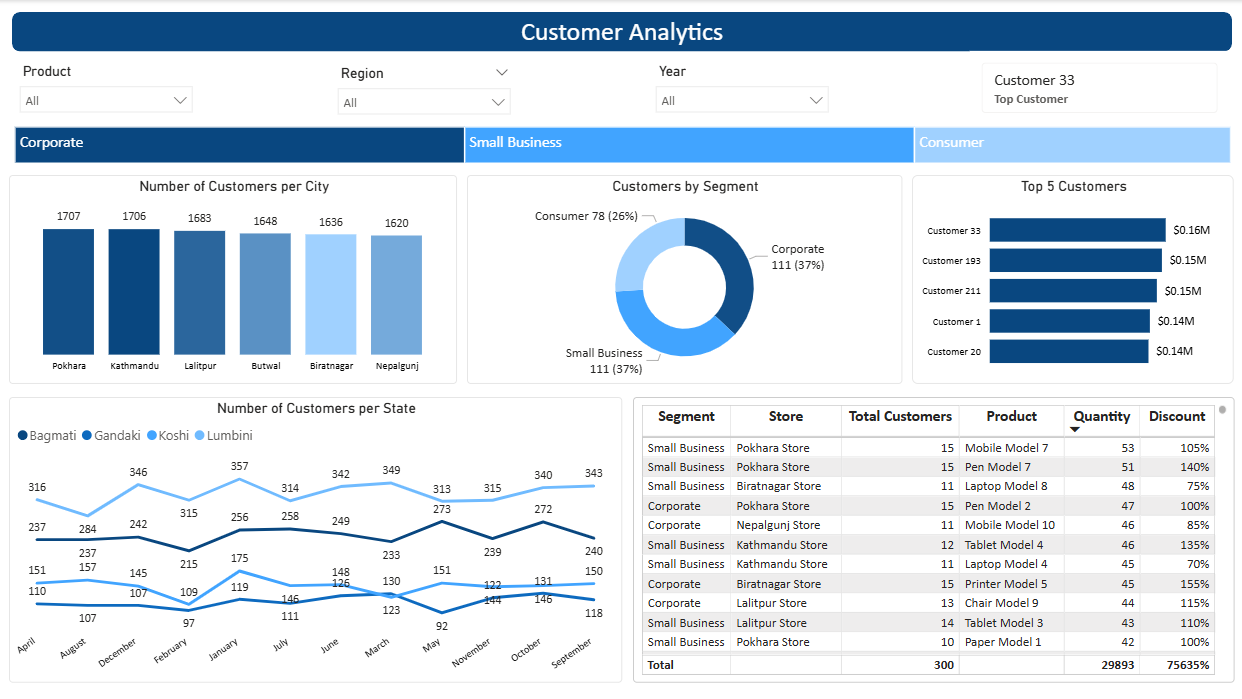

The page's visual inventory and layout, read from the dashboard file:
{"tool":"powerbi","page":{"name":"Customer Insights","canvas":[1280,720],"ordinal":2},"visuals":[{"type":"shape","box":[8.8,8.8,1261.5,46.7],"z":0},{"type":"treemap","title":"Number of Customers by Segment","fields":{"Group":["Customers.Segment"],"Values":["CountNonNull(Customers.Segment)"]},"box":[9.9,125.4,1260.9,47.5],"z":1000},{"type":"barChart","title":"Top 5 Customers","fields":{"Category":["Customers.CustomerName"],"Y":["Measure Calculation.Total Sales"]},"box":[938.9,180,331.2,214.8],"z":2000},{"type":"columnChart","title":"Number of Customers per City","fields":{"Category":["Stores.City"],"Y":["CountNonNull(sales_gold.CustomerName)"]},"box":[9,180,461.5,214.8],"z":3000},{"type":"cardVisual","fields":{"Data":["Min(Customers.CustomerName)"]},"box":[992.6,47.7,277.5,86.5],"z":4000},{"type":"donutChart","title":"Customers by Segment","fields":{"Category":["Customers.Segment"],"Y":["CountNonNull(Customers.CustomerName)"]},"box":[480.4,180,447.6,214.8],"z":5000},{"type":"slicer","fields":{"Values":["sales_gold.Year"]},"box":[665,60.7,197.9,62.7],"z":7000},{"type":"slicer","fields":{"Values":["sales_gold.ProductName"]},"box":[9.9,60.9,197.9,62.7],"z":8000},{"type":"slicer","fields":{"Values":["sales_gold.Region"]},"box":[337.4,62.7,197.9,62.7],"z":9000},{"type":"lineChart","title":"Number of Customers per State","fields":{"Category":["Date_Dimension.MonthName"],"Series":["Customers.State"],"Y":["CountNonNull(sales_gold.CustomerID)"]},"box":[9,408.8,630.6,294.4],"z":10000},{"type":"tableEx","fields":{"Values":["sales_gold.Segment","sales_gold.StoreName","sales_gold.CustomerName","sales_gold.ProductName","Measure Calculation.Total Quantity","Sum(sales_gold.Discount)"]},"box":[651.4,408.8,618.6,294.4],"z":11000}]}

Visuals, with their boxes in screenshot pixels (x1, y1, x2, y2), scaled from the page's 1280x720 canvas onto the 1242x699 screenshot:
shape: {"x1": 9, "y1": 9, "x2": 1233, "y2": 54}
"Number of Customers by Segment" treemap: {"x1": 10, "y1": 122, "x2": 1233, "y2": 168}
"Top 5 Customers" barChart: {"x1": 911, "y1": 175, "x2": 1232, "y2": 383}
"Number of Customers per City" columnChart: {"x1": 9, "y1": 175, "x2": 457, "y2": 383}
cardVisual - Min(Customers.CustomerName): {"x1": 963, "y1": 46, "x2": 1232, "y2": 130}
"Customers by Segment" donutChart: {"x1": 466, "y1": 175, "x2": 900, "y2": 383}
slicer - sales_gold.Year: {"x1": 645, "y1": 59, "x2": 837, "y2": 120}
slicer - sales_gold.ProductName: {"x1": 10, "y1": 59, "x2": 202, "y2": 120}
slicer - sales_gold.Region: {"x1": 327, "y1": 61, "x2": 519, "y2": 122}
"Number of Customers per State" lineChart: {"x1": 9, "y1": 397, "x2": 621, "y2": 683}
tableEx - sales_gold.Segment x sales_gold.StoreName: {"x1": 632, "y1": 397, "x2": 1232, "y2": 683}
